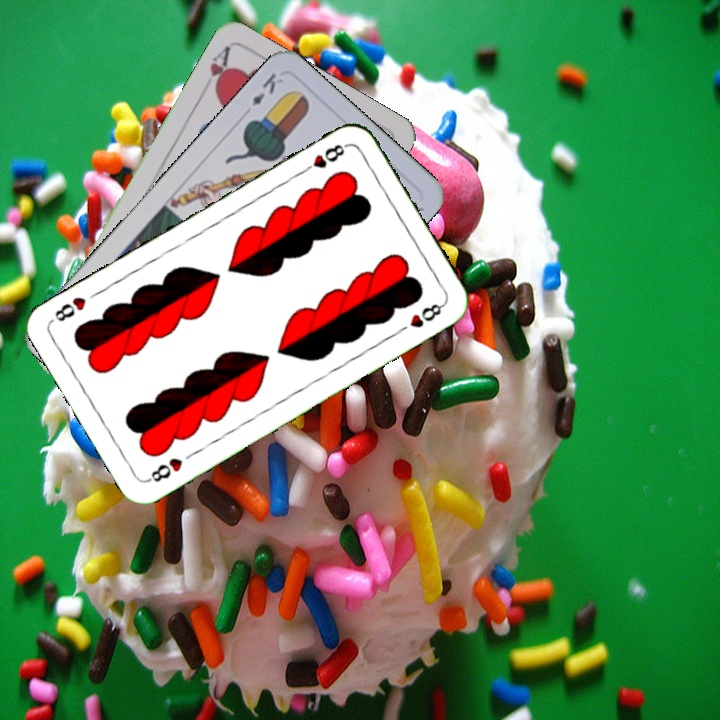EK: (247, 69, 287, 109)
H8: (297, 139, 351, 177), (143, 453, 186, 485)
HA: (205, 43, 233, 98)
